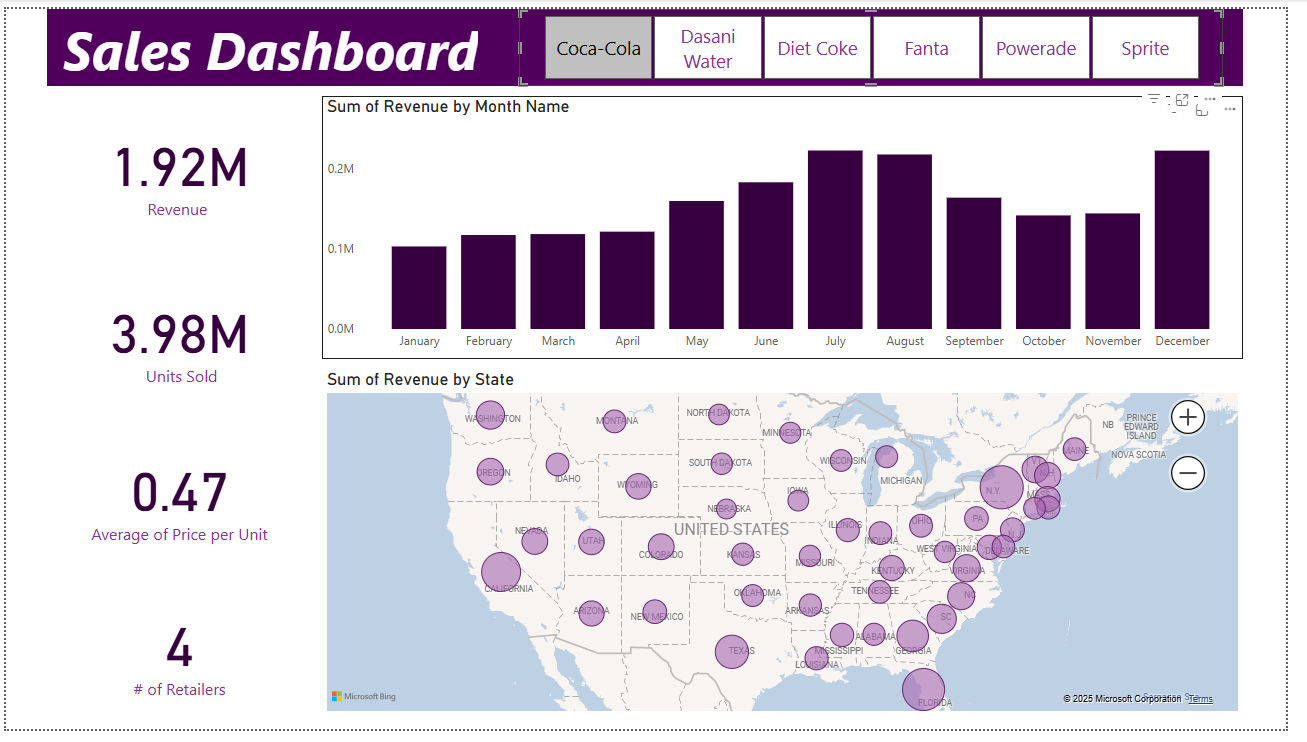

This screenshot's page, from the dashboard's own definition file:
{"tool":"powerbi","page":{"name":"Page 1","canvas":[1280,720],"ordinal":0},"visuals":[{"type":"shape","box":[41,0,1196,77],"z":0},{"type":"card","fields":{"Values":["Sum(Data.Revenue )"]},"box":[31,87,285,148],"z":1},{"type":"card","fields":{"Values":["Avg(Data.Price per Unit)"]},"box":[31,420.3,285,132],"z":2},{"type":"card","fields":{"Values":["Sum(Data.Units Sold)"]},"box":[31,257.7,285,140],"z":3},{"type":"columnChart","fields":{"Y":["Sum(Data.Revenue )"],"Category":["Data.Month Name"]},"box":[316,87,921,263],"z":4},{"type":"map","fields":{"Category":["Data.State"],"Size":["Sum(Data.Revenue )"]},"box":[316,360,921,347],"z":5},{"type":"slicer","fields":{"Values":["Data.Beverage Brand"]},"box":[513,0,704,77],"z":6},{"type":"card","fields":{"Values":["Count(Data.Retailer)"]},"box":[31,575,285,132],"z":7}]}

Visuals, with their boxes in screenshot pixels (x1, y1, x2, y2), scaled from the page's 1280x720 canvas onto the 1307x742 screenshot:
shape: (left=42, top=0, right=1263, bottom=79)
card - Sum(Data.Revenue ): (left=32, top=90, right=323, bottom=242)
card - Avg(Data.Price per Unit): (left=32, top=433, right=323, bottom=569)
card - Sum(Data.Units Sold): (left=32, top=266, right=323, bottom=410)
columnChart - Sum(Data.Revenue ) x Data.Month Name: (left=323, top=90, right=1263, bottom=361)
map - Data.State x Sum(Data.Revenue ): (left=323, top=371, right=1263, bottom=729)
slicer - Data.Beverage Brand: (left=524, top=0, right=1243, bottom=79)
card - Count(Data.Retailer): (left=32, top=593, right=323, bottom=729)
